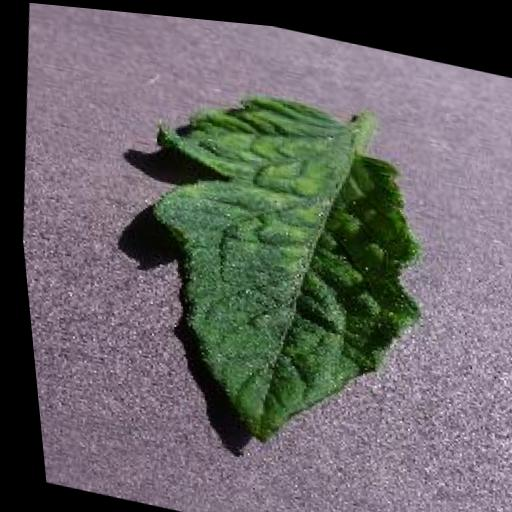Mosaic Virus: (108, 64, 452, 473)
